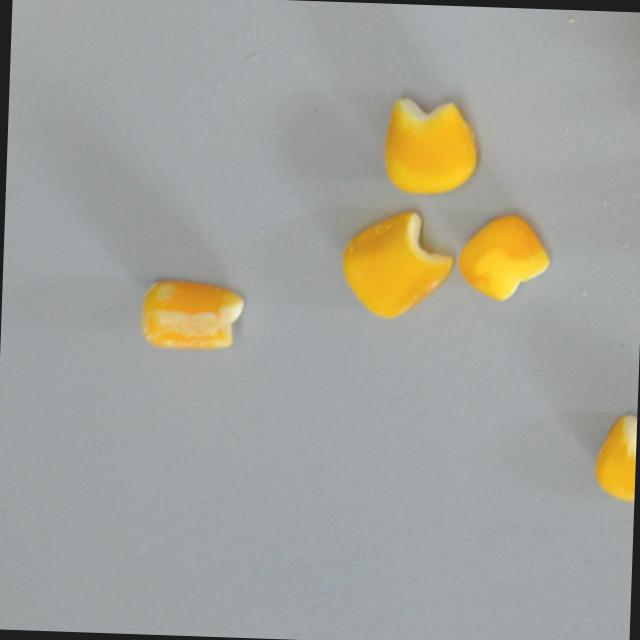no_canjicado: (339, 207, 453, 321), (379, 95, 476, 196), (454, 211, 549, 303), (590, 413, 637, 507)
pelicula: (138, 277, 242, 353)
